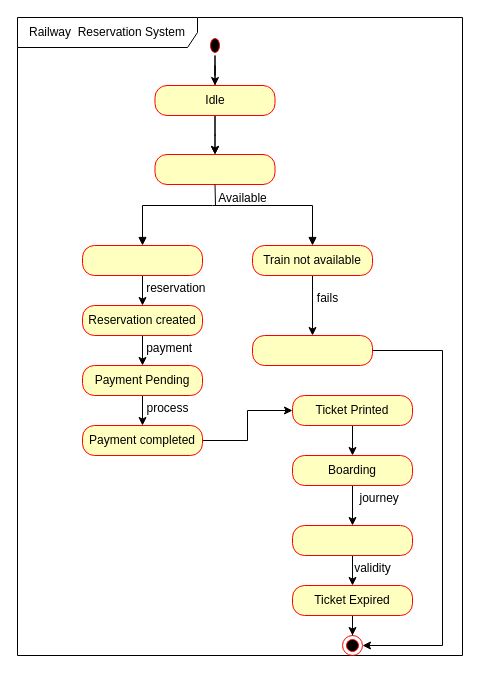
Some shapes in this 480 by 673 pixel diagram are drawn without their labels. Here are the shapes that lost their labels. From the top down, the centre of each, then its label:
At [214,169]: "Seraching for Trains".
At [142,260]: "Train available".
At [312,350]: "Not able to reserve train".
At [352,540]: "Journey completed".
